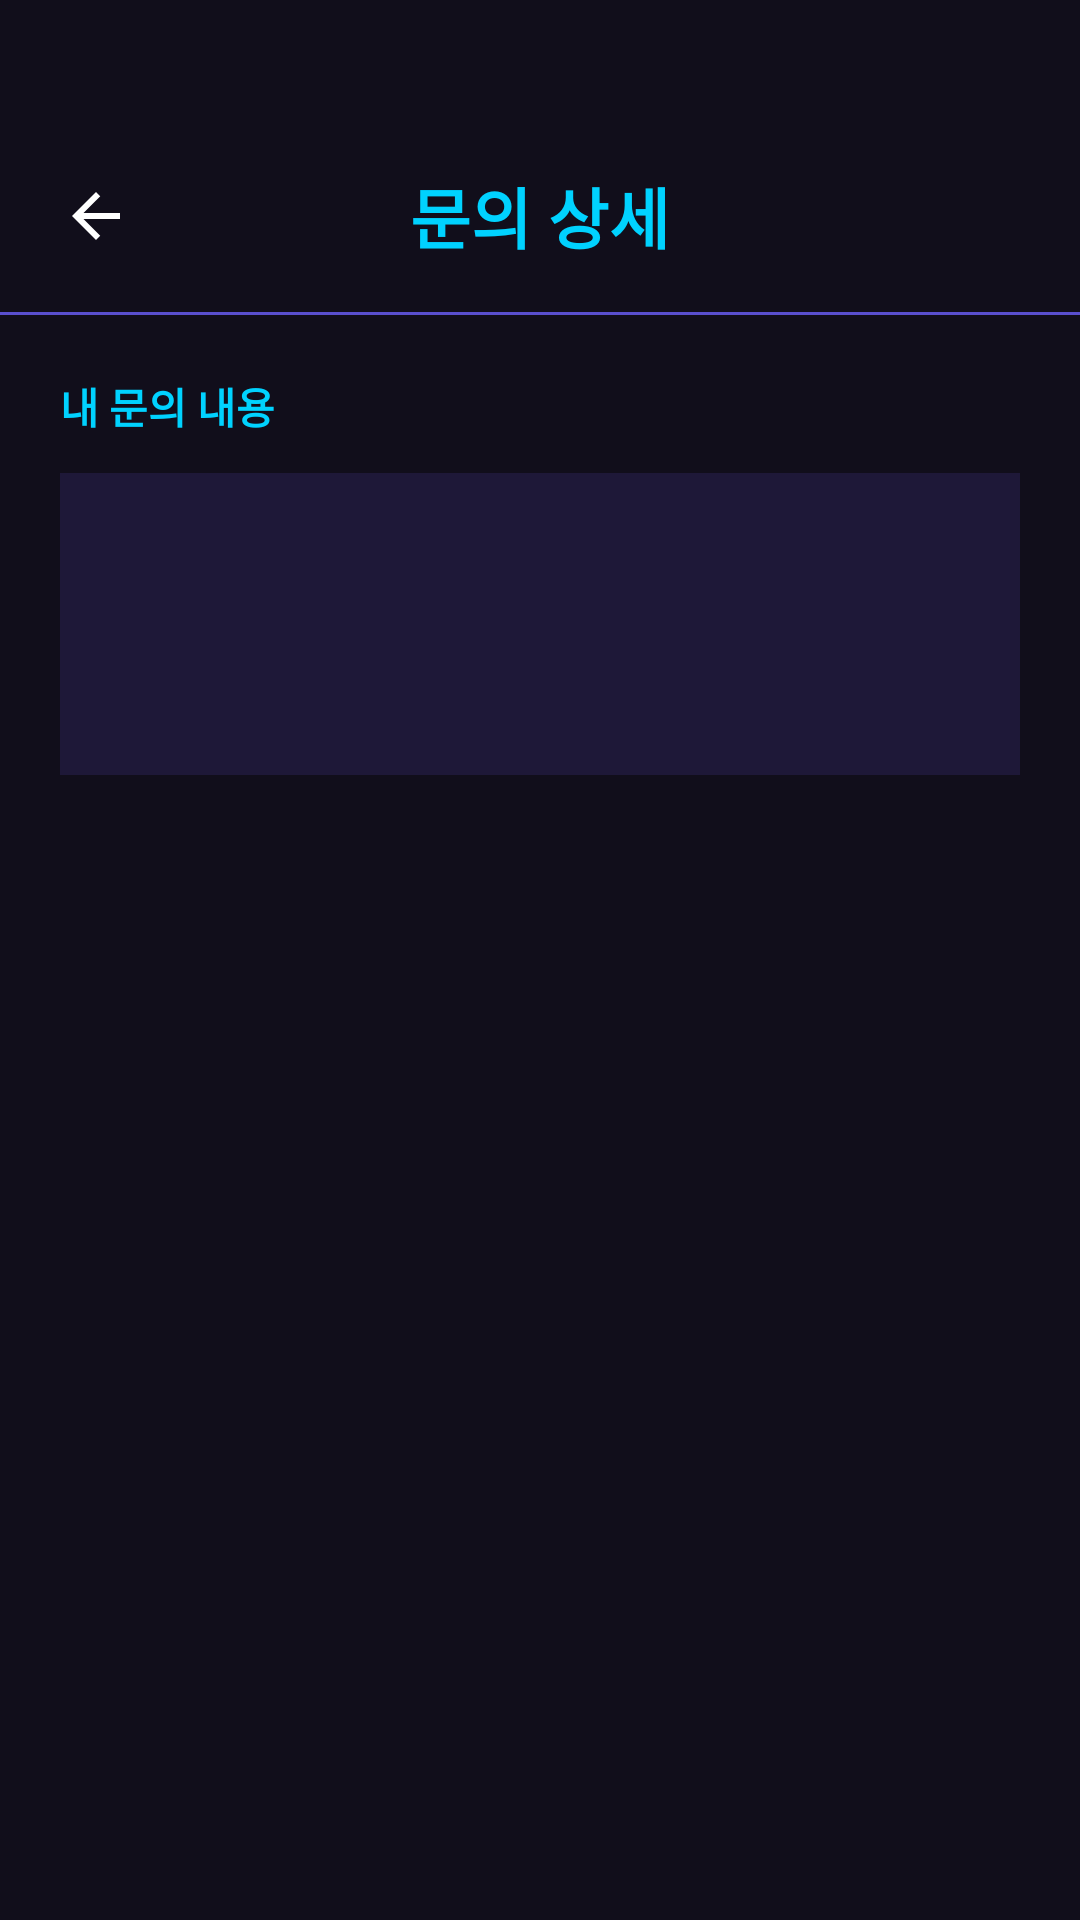

Screen size 1080*1920. Icon name, then its center in pixels as (x,y):
back: (96,216)
